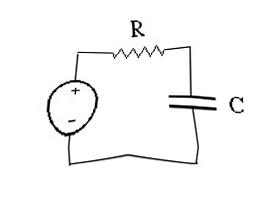Battery: (37, 76, 106, 139)
